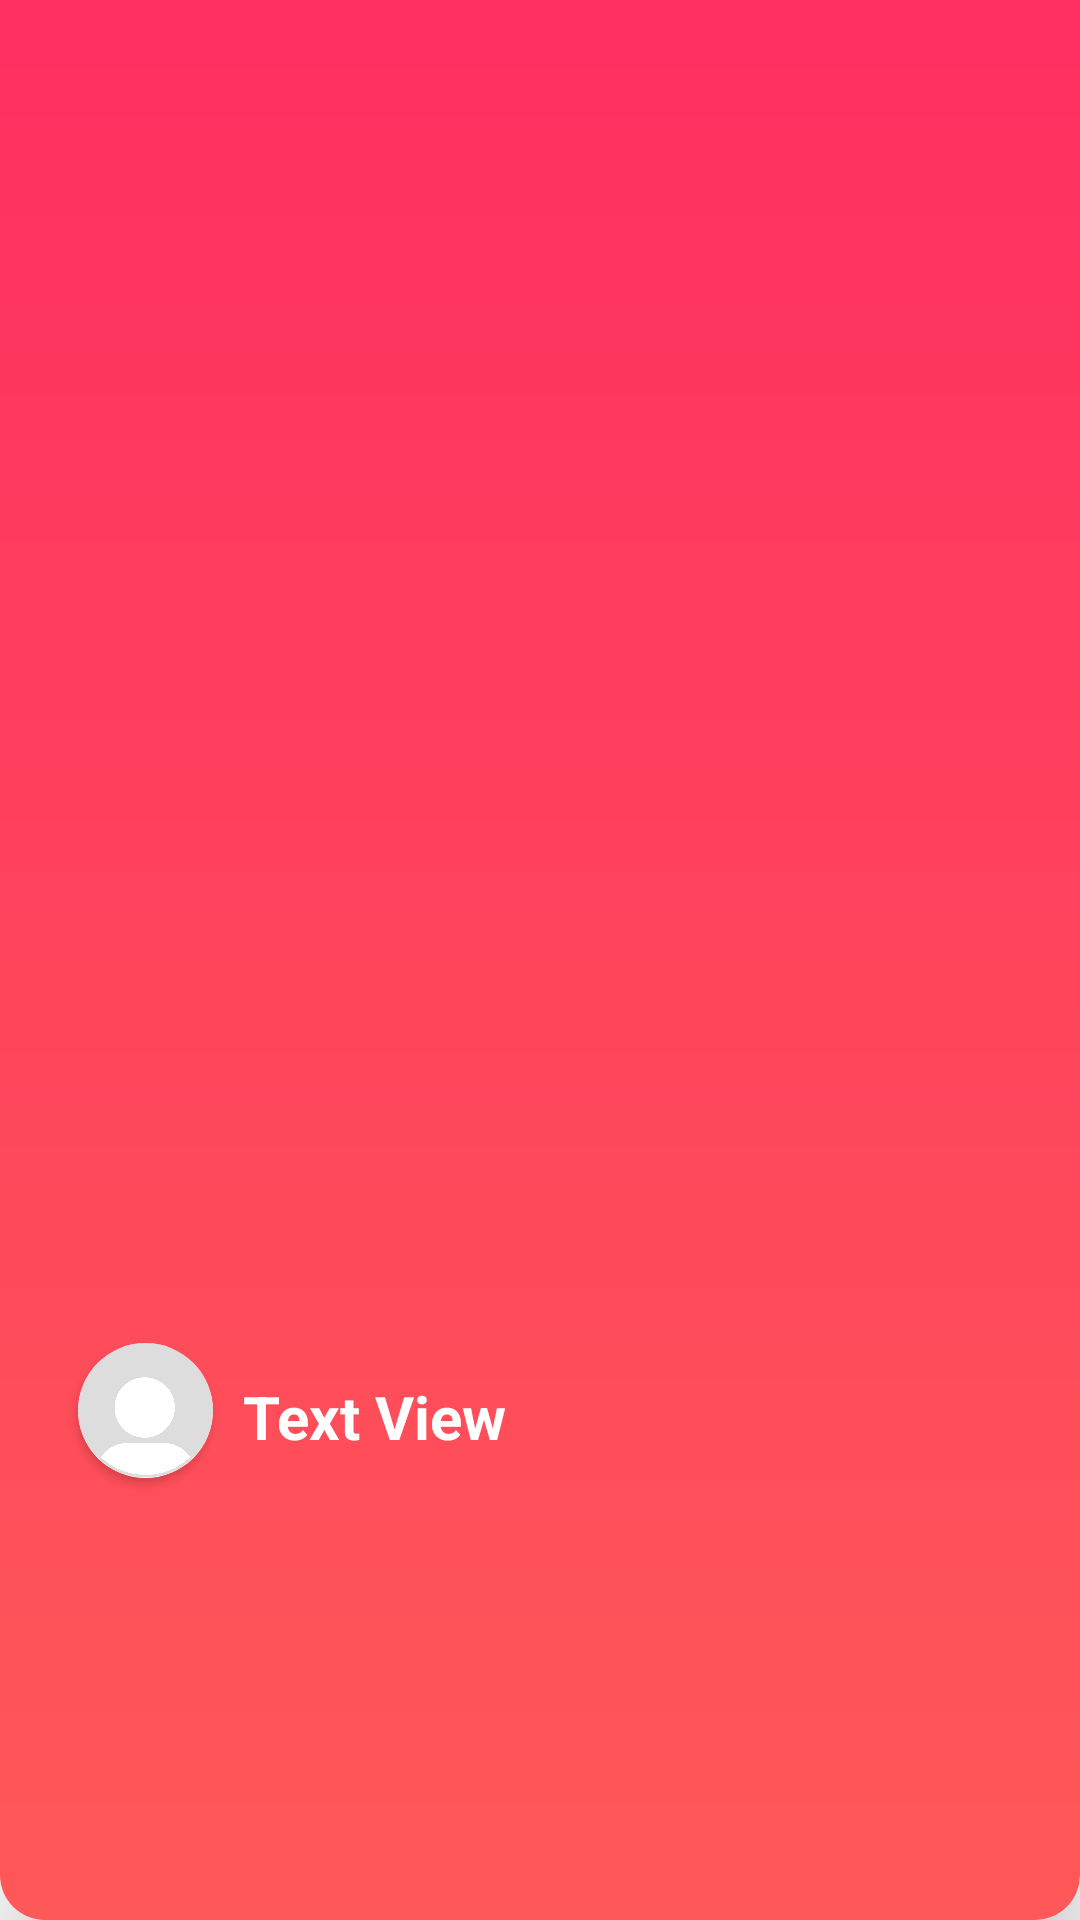

Where icons sit on this 1080px x 1920px app screen, as (x1, y1, x2, y2):
user: (78, 1343, 213, 1478)
